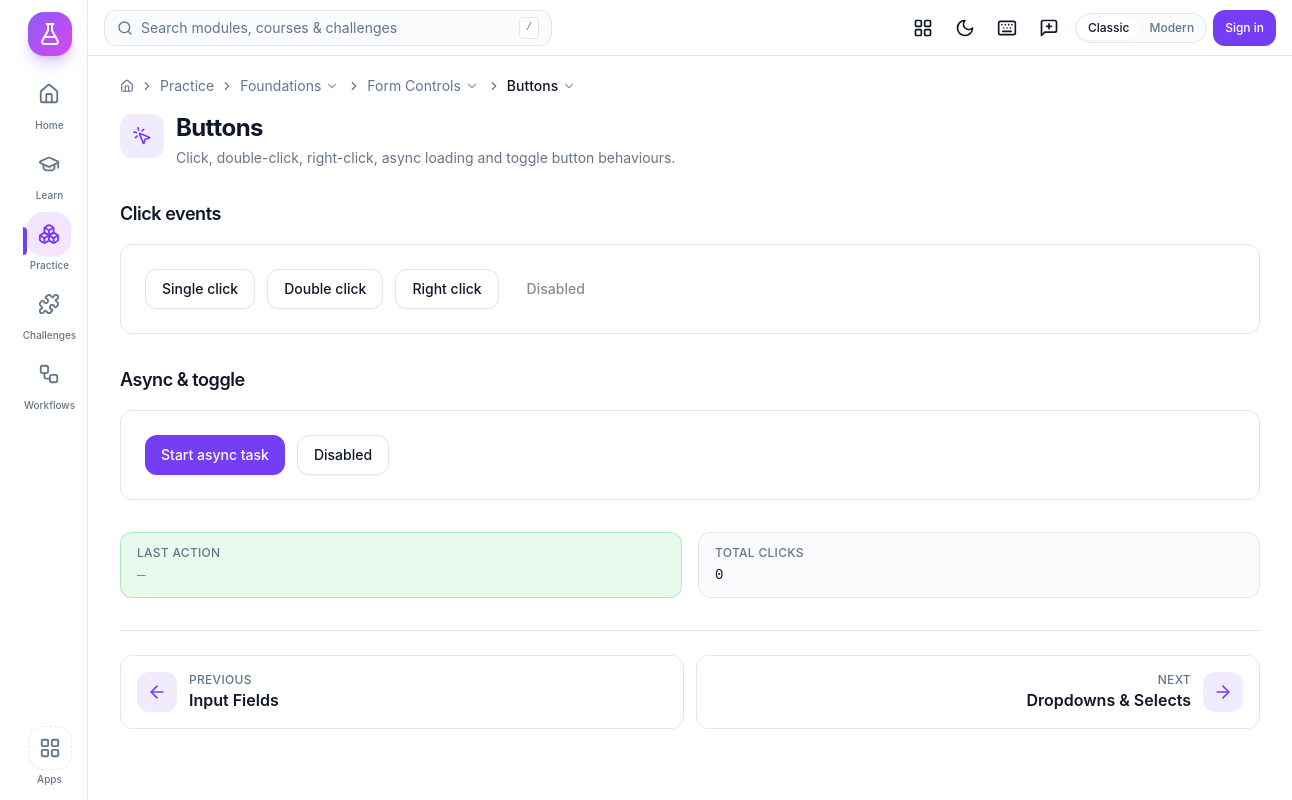
Buttons module › counts single clicks and reports the last action
The image size is (1292, 800).
Click the button with test id "btn-click" at (200, 289), box [145,269,255,309]
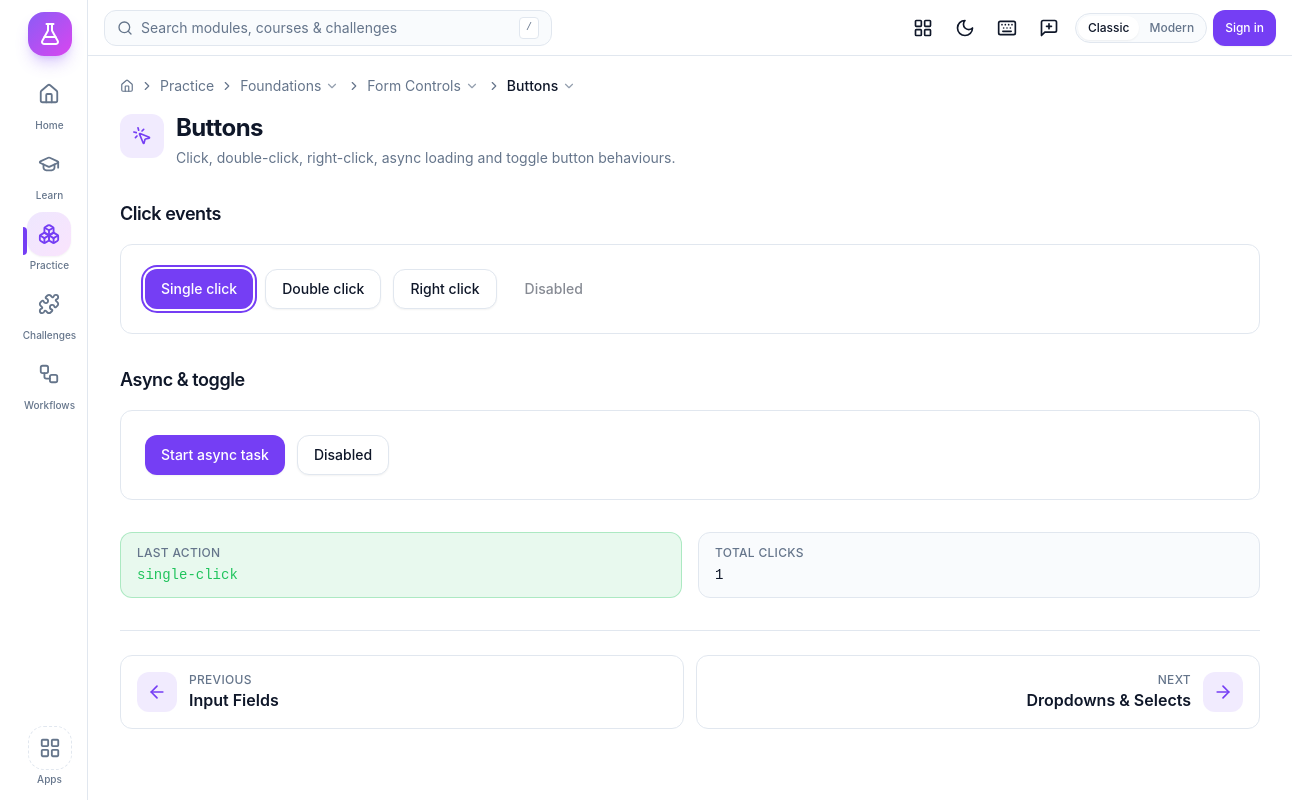
Click the button with test id "btn-click" at (199, 289), box [145,269,253,309]
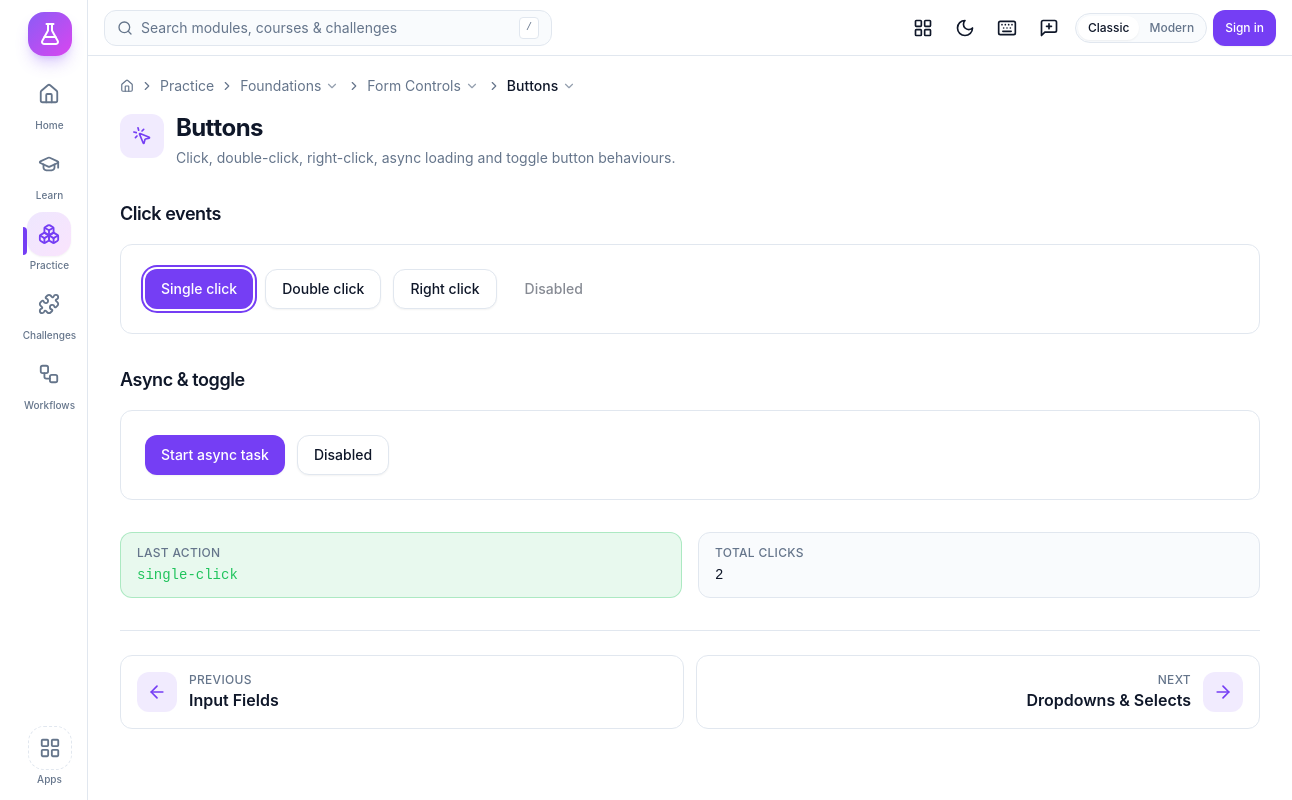
Result: the text with test id "btn-last-action" reads "single-click" at [137,567,238,583]
Result: the text with test id "btn-click-count" reads "2" at [715,567,723,583]
